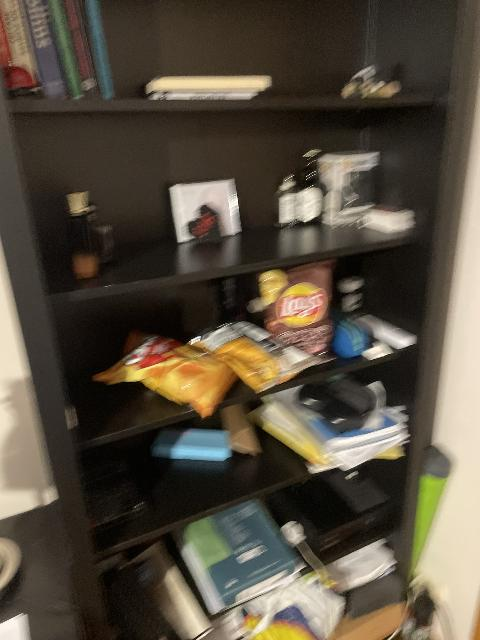Chio Cascaval 125g: (91, 330, 243, 419)
Chio Hula Hoops Cheese 70g: (194, 318, 328, 392)
Lays Beef Grilled Ribs 125g: (257, 261, 337, 352)
